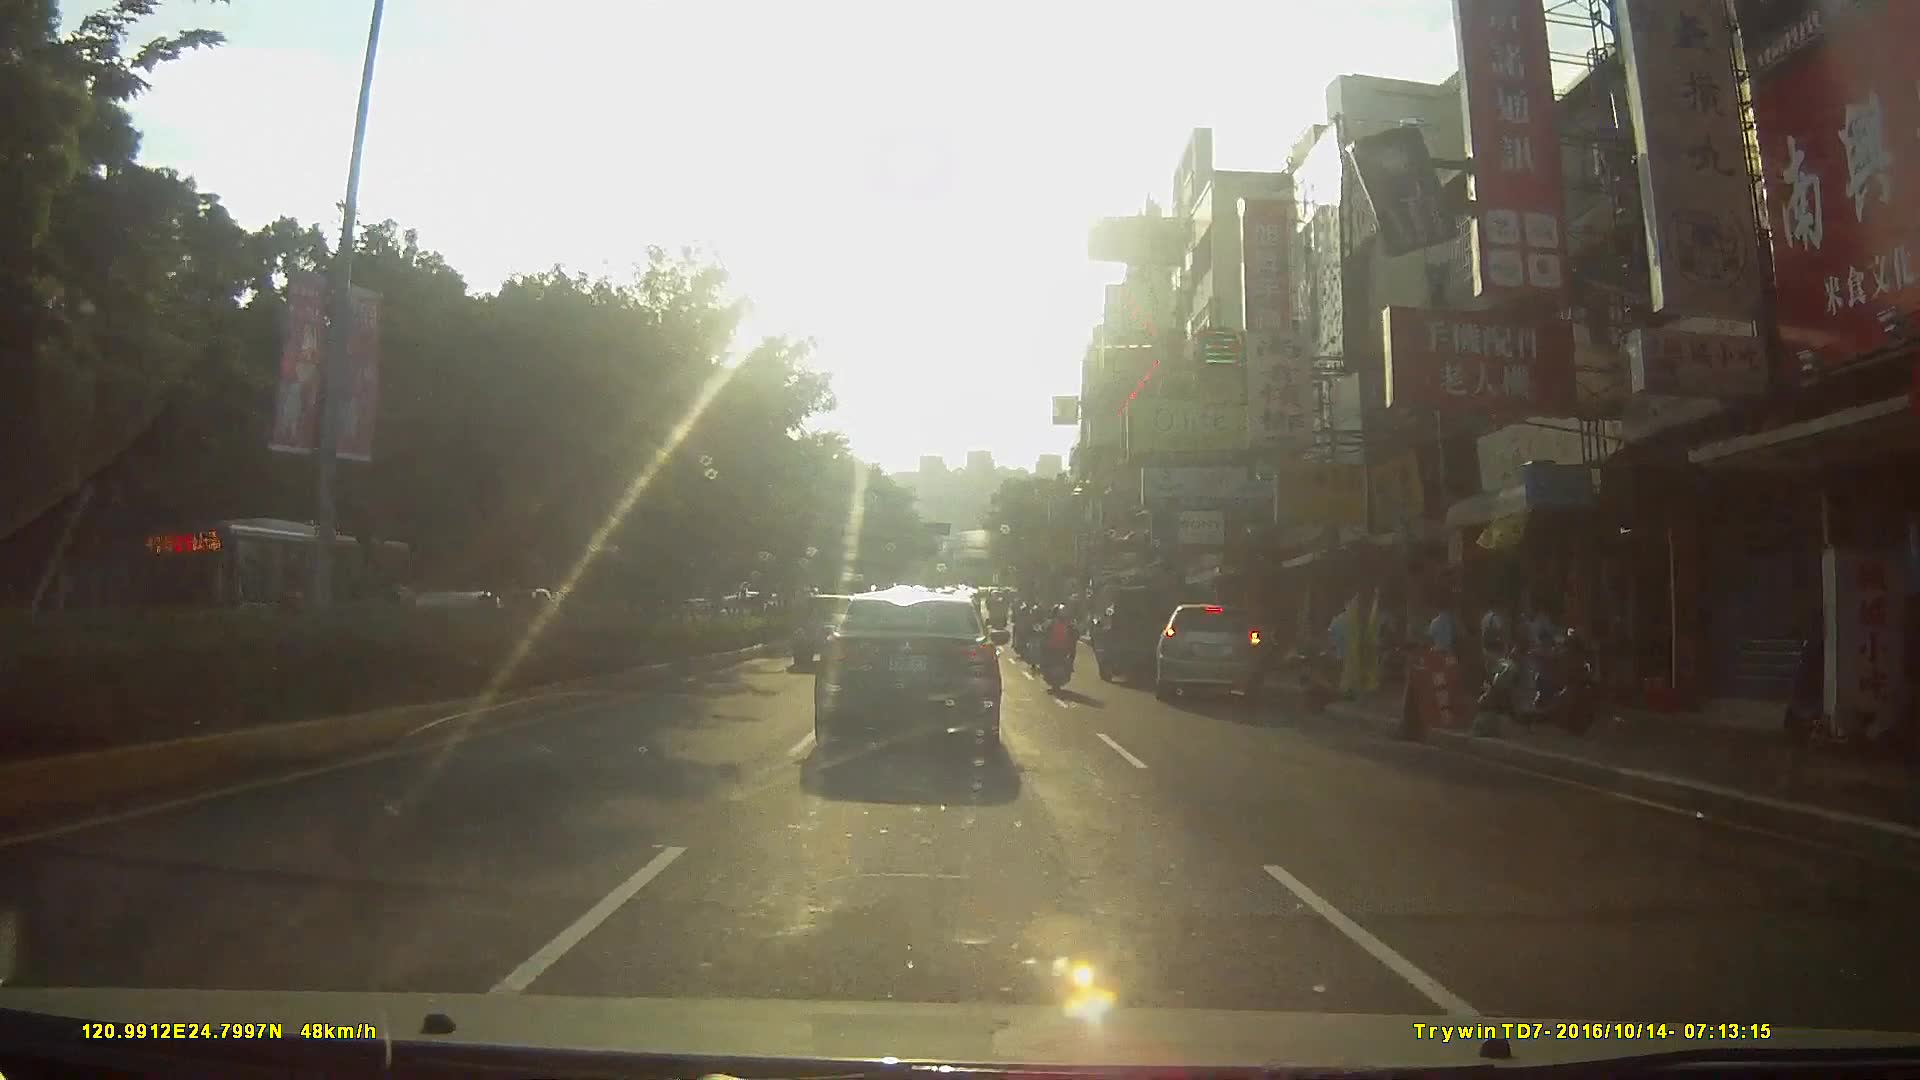pedestrian: (1424, 599, 1464, 691), (1523, 589, 1554, 686), (1481, 592, 1505, 689)
rider: (1037, 595, 1081, 693), (1022, 600, 1047, 668)
vehicle: (145, 514, 411, 667), (816, 590, 1030, 770), (1150, 594, 1284, 705), (1093, 577, 1196, 688)
